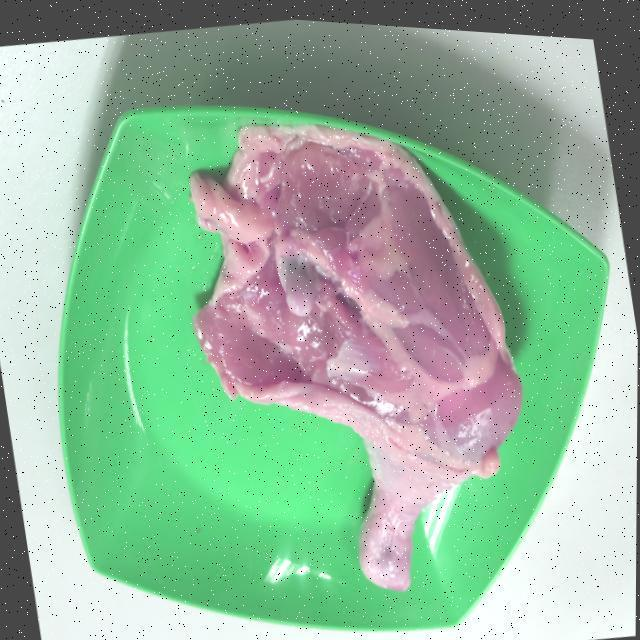quater: (198, 133, 520, 594)
